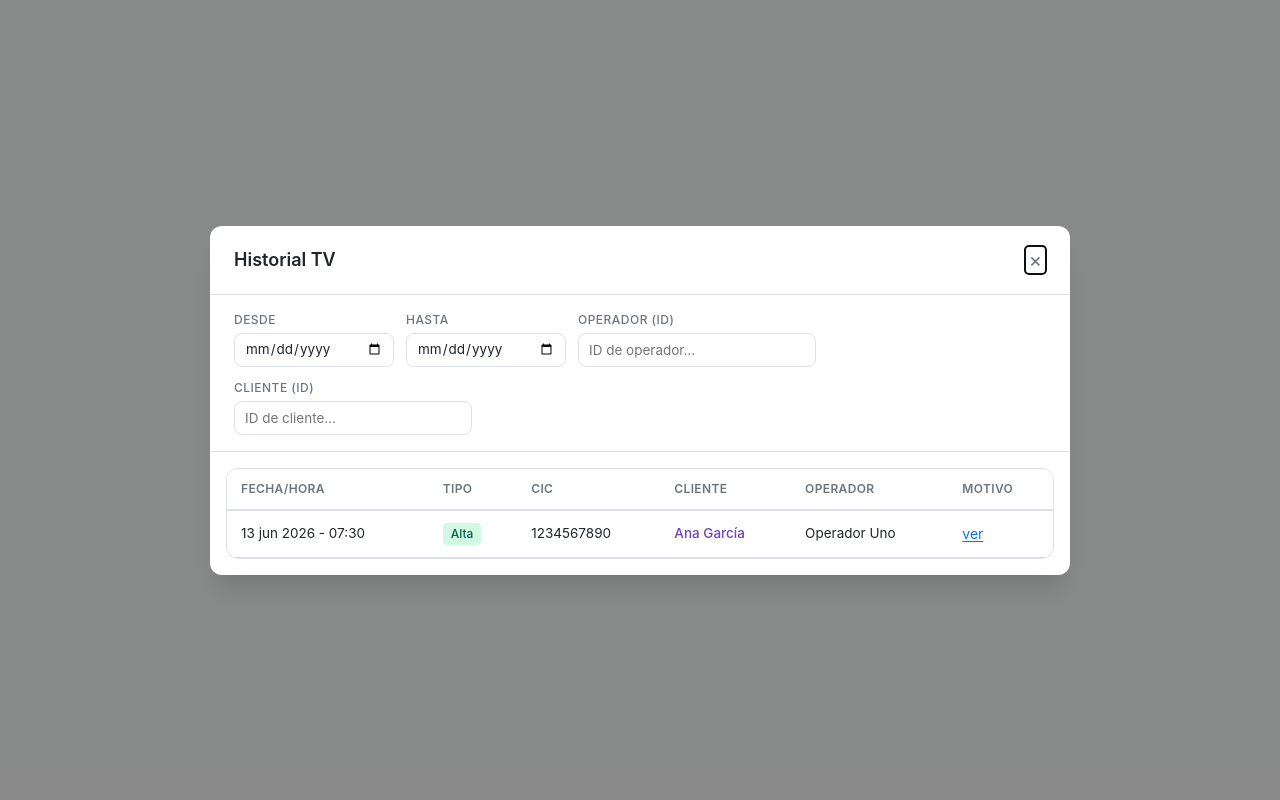
Test: ActivationHistoryModal › clicking "ver" opens ReasonViewModal with the reason text
Click the button with aria-label "ver motivo".
click(973, 533)  # box [962,523,983,544]
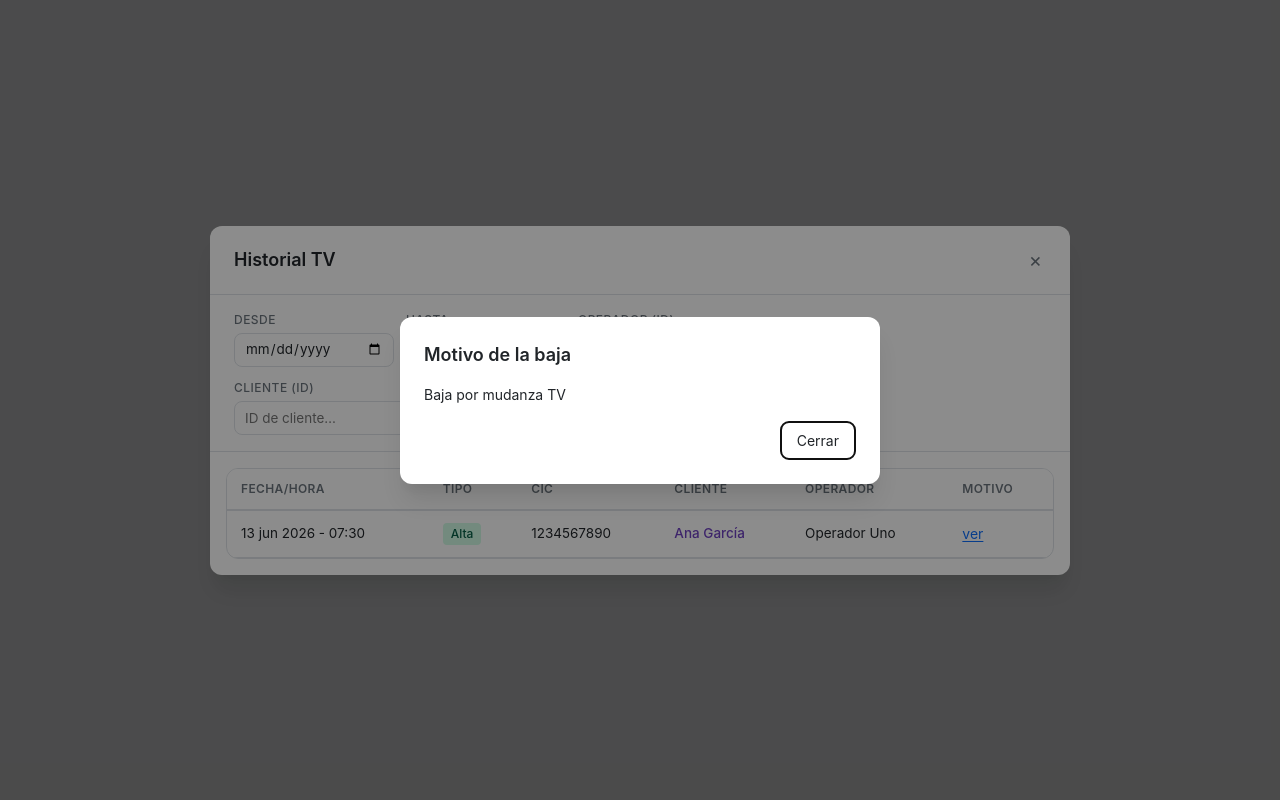
expect the heading "Motivo de la baja" is shown: met, box [424,344,571,364]
expect the text "Baja por mudanza TV" is shown: met, box [424,386,566,402]
